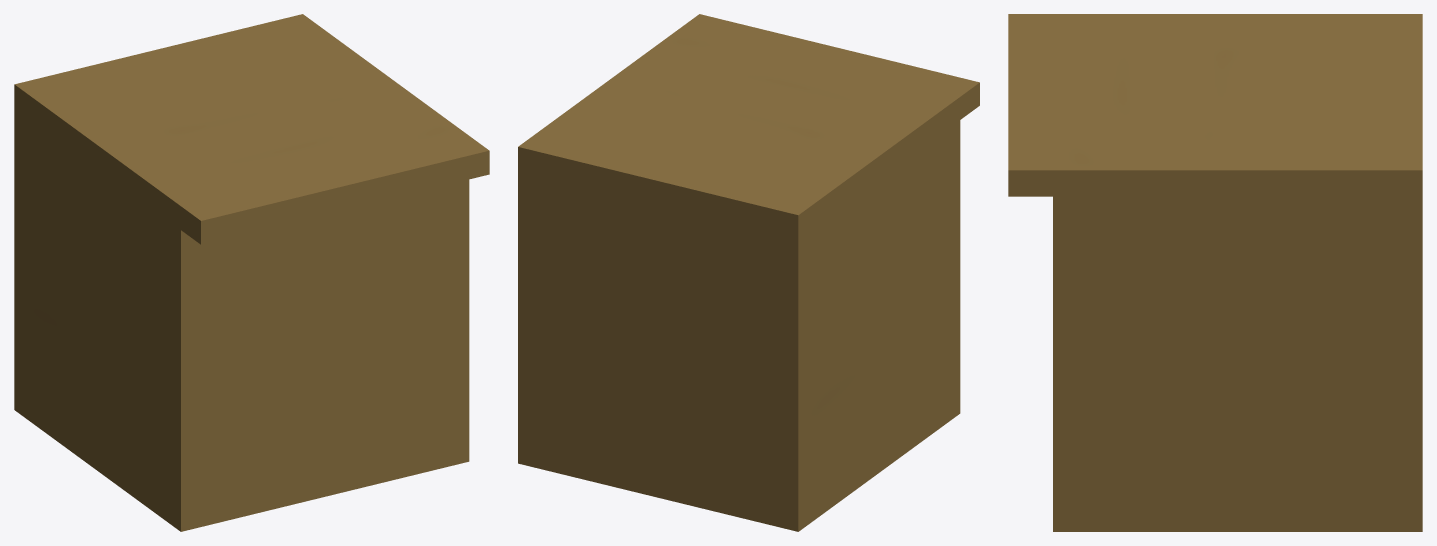
File: Balcão.fbx
3 renders of one model, left to right at view 1: azimuth 30°, elevation 25°; view 2: azimuth 150°, elevation 25°; view 3: azimuth 270°, elevation 25°, orthographic. The views are drawn at different scales.
Parts seen in each view (by area): view 1: Cube; view 2: Cube; view 3: Cube.
Part boxes in pixels (x1=…): Cube: x1=14, y1=14, x2=489, y2=531; Cube: x1=518, y1=14, x2=979, y2=531; Cube: x1=1008, y1=14, x2=1422, y2=531.
Size of the model in its own units: 320 by 346 by 359.
Materials: 1 (1 with a texture image).
